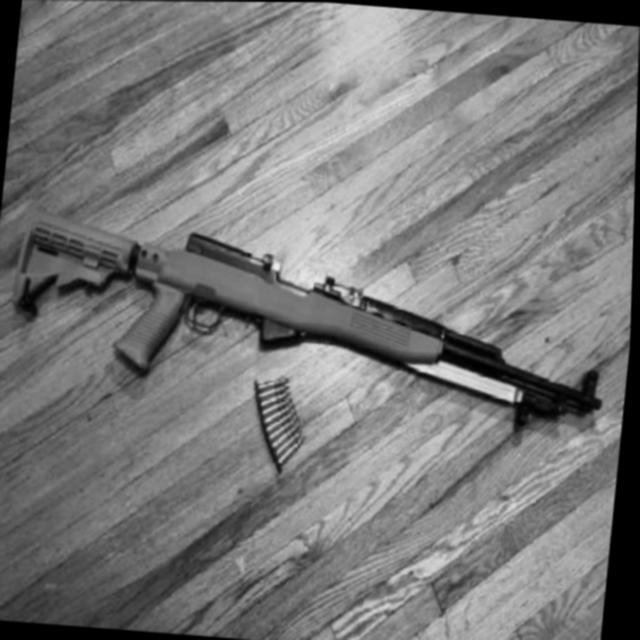weapon: (1, 202, 619, 434)
